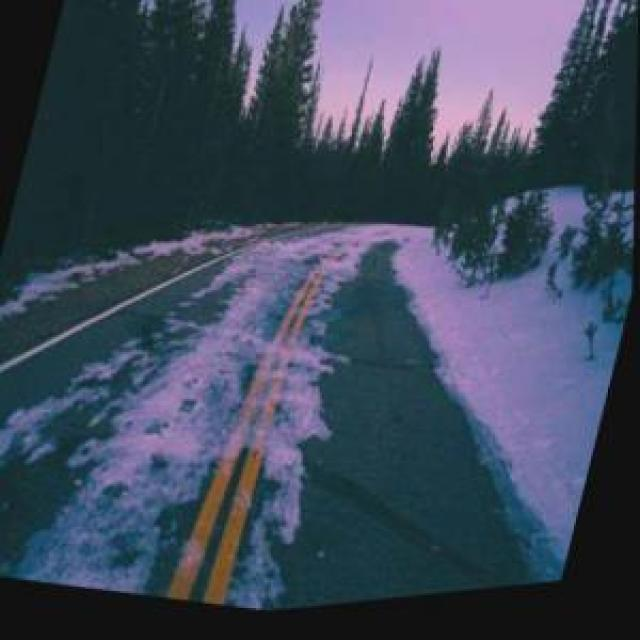ice-road: (1, 228, 560, 609)
